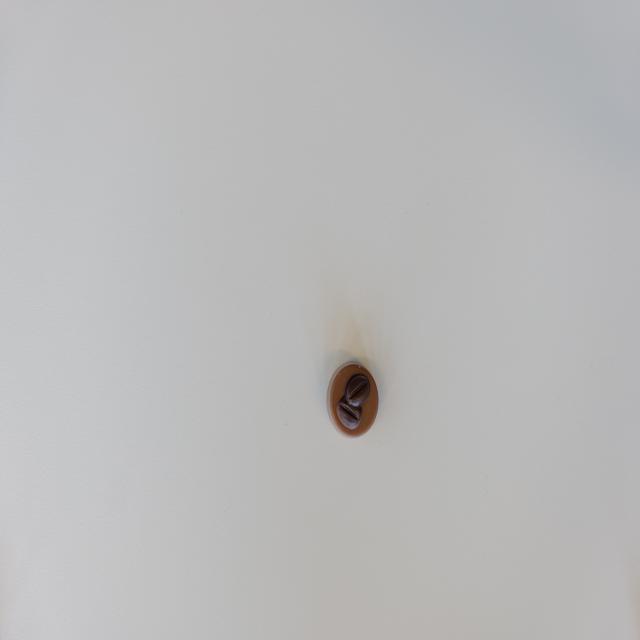Arabia: (327, 362, 379, 441)
